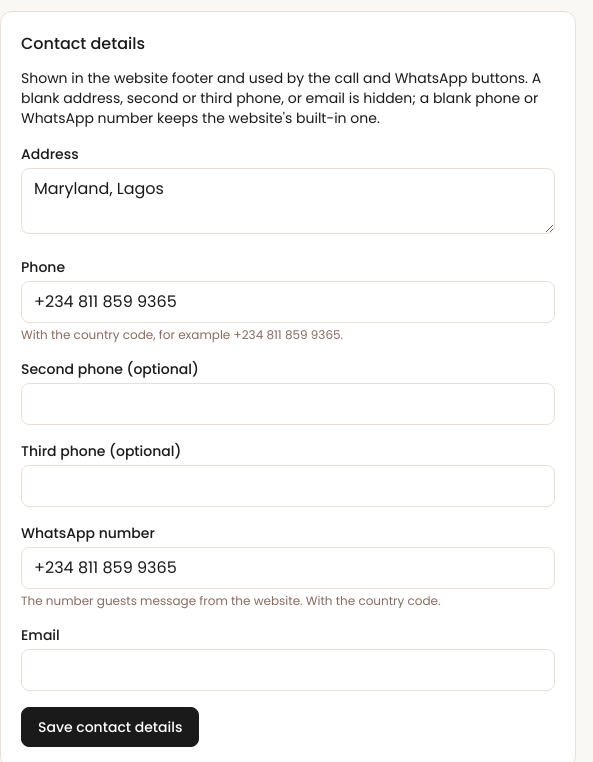
website lists › contact details: shown filled in; blanks are saved as empty, with the current version
The image size is (593, 762).
(page scrolled)
Expected: the field labelled "Phone" holds "+234 811 859 9365", top-left (21, 281), bottom-right (555, 323)
Type "hello@smm.example" into the field labelled "Email" at point(288, 670), box top-left (21, 649), bottom-right (555, 691)
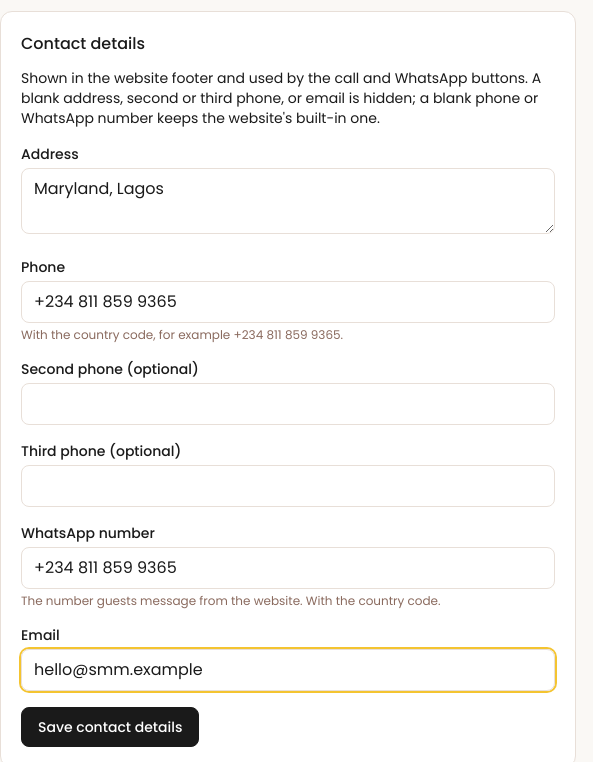
Clear the text box labelled "Address" at point(288, 201), box top-left (21, 168), bottom-right (555, 234)
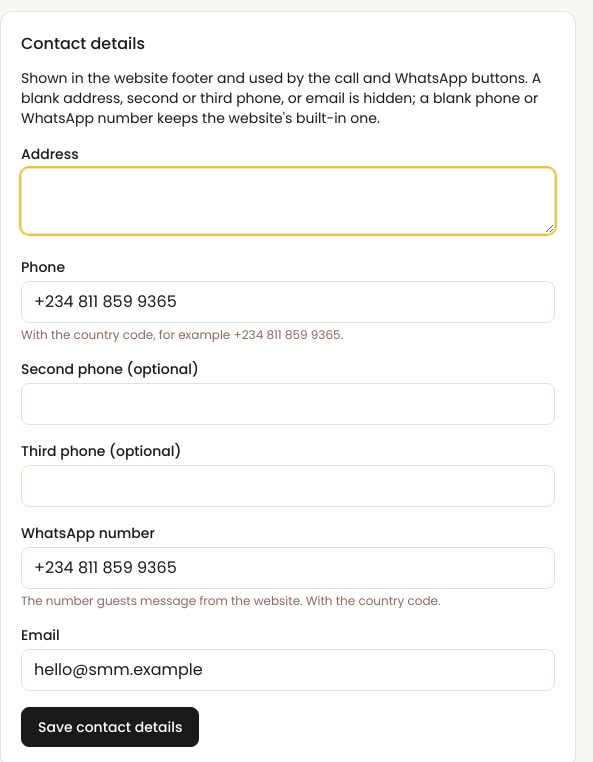
Click the button "Save contact details" at point(110, 727), box top-left (21, 707), bottom-right (199, 747)
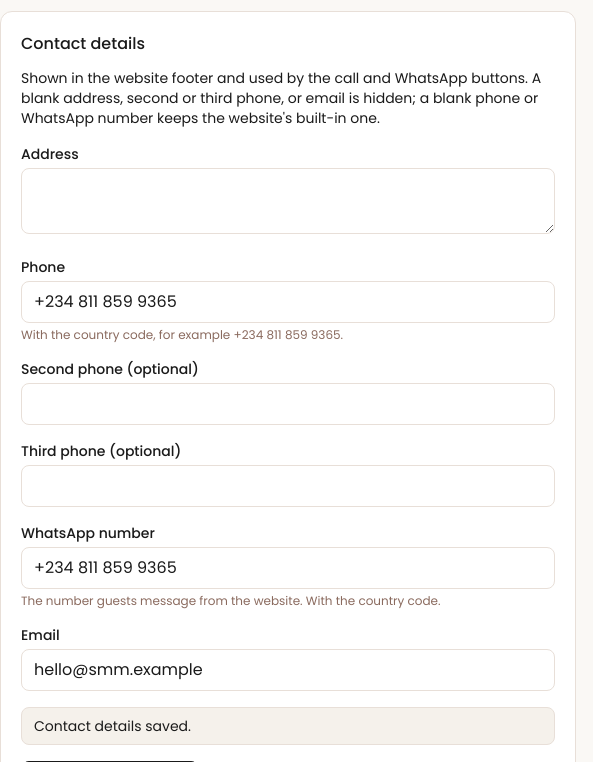
Expected: the text "Contact details saved." is shown, top-left (21, 707), bottom-right (555, 745)
